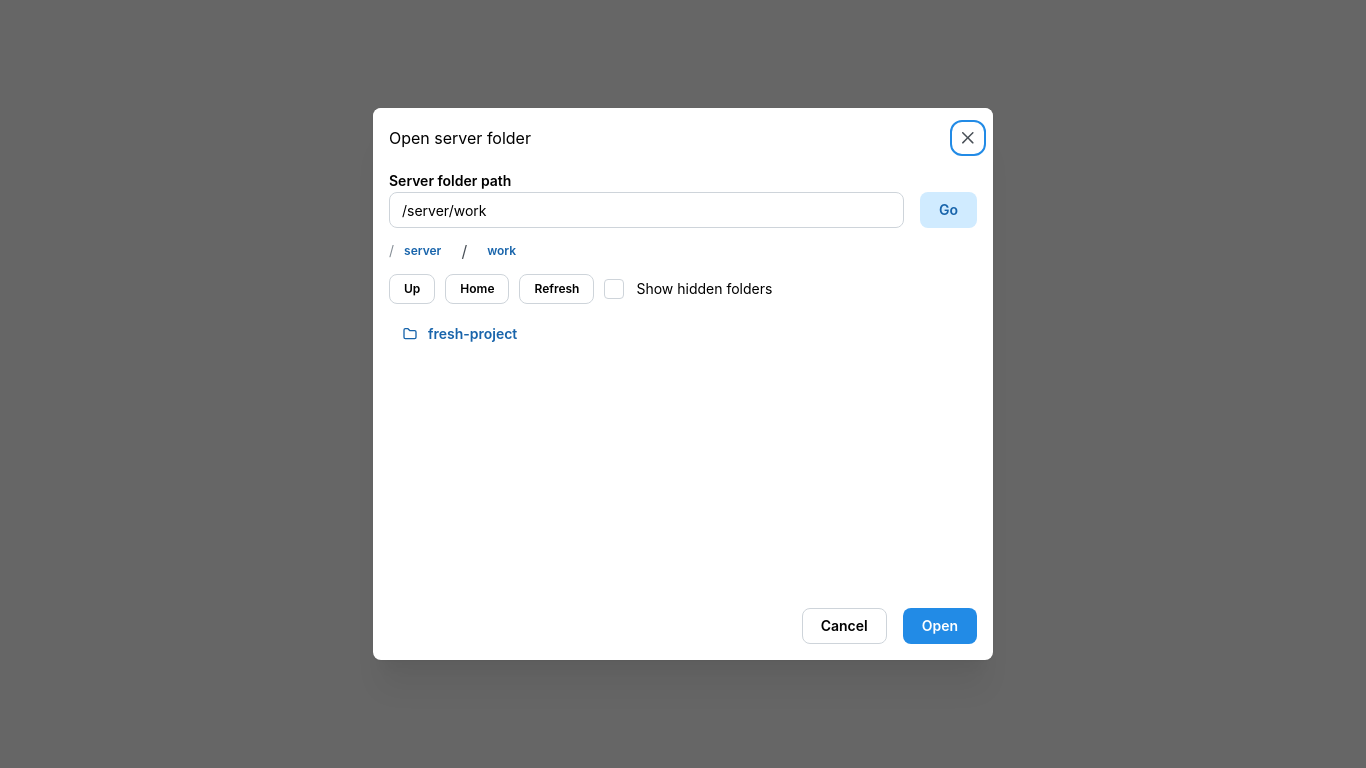
Scenario: server folder picker › keeps the last successful folder on navigation failure
The image size is (1366, 768).
Click the button "fresh-project": click(473, 334) [389,316,977,352]
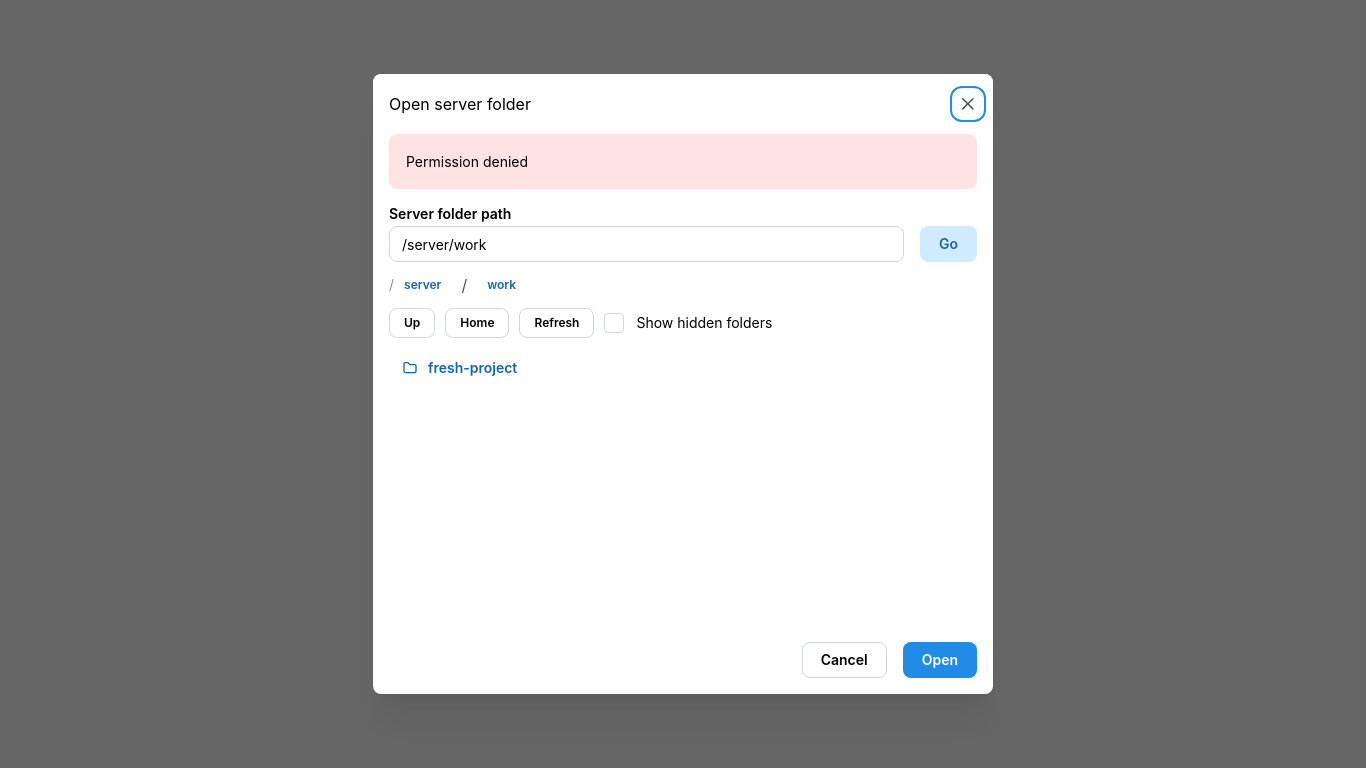
Check: the field labelled "Server folder path" holds "/server/work", box [389,226,904,262]
Check: the text "Permission denied" is shown, box [406,153,528,170]
